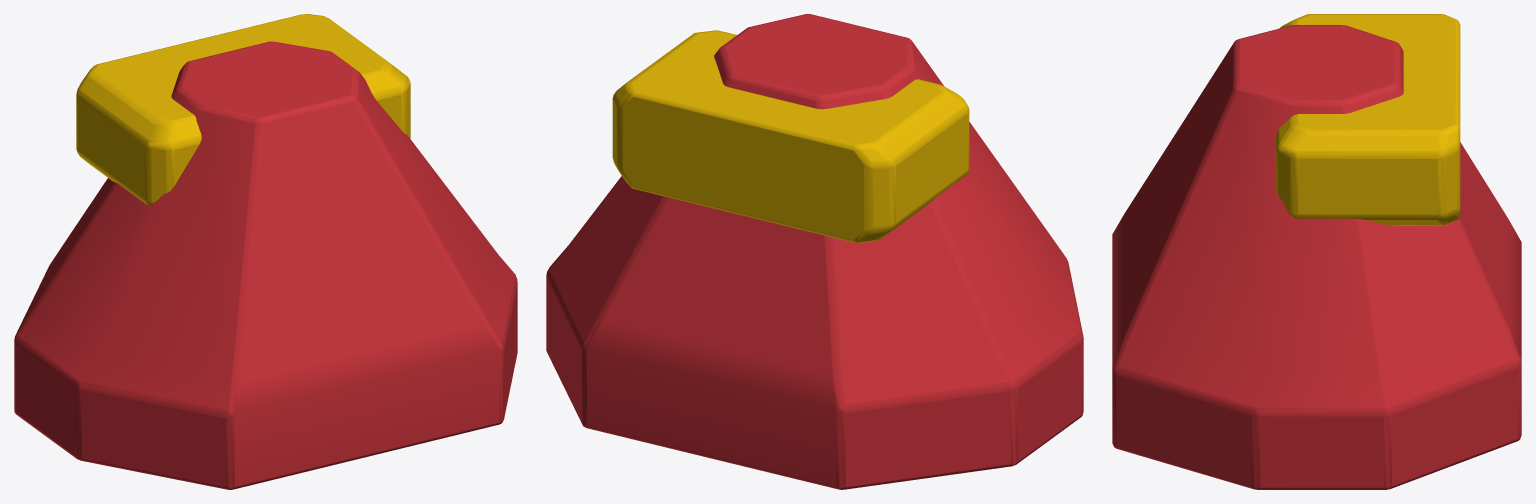
The model's file is AnimalHeadFront_Set10_Aegis.fbx.
3 views of the same model, side by side, from view 1: azimuth 30°, elevation 25°; view 2: azimuth 150°, elevation 25°; view 3: azimuth 270°, elevation 25° (orthographic). The views are drawn at different scales.
Parts seen in each view (by area): view 1: AnimalHeadFront_Set10_Aegis; view 2: AnimalHeadFront_Set10_Aegis; view 3: AnimalHeadFront_Set10_Aegis.
Boxes of the visible parts, box(x1,y1,x2,y2) form: AnimalHeadFront_Set10_Aegis: box(14, 14, 517, 489); AnimalHeadFront_Set10_Aegis: box(546, 14, 1083, 489); AnimalHeadFront_Set10_Aegis: box(1112, 14, 1521, 489).
Bounding box in the file's own units: 0.36 × 0.24 × 0.28.
